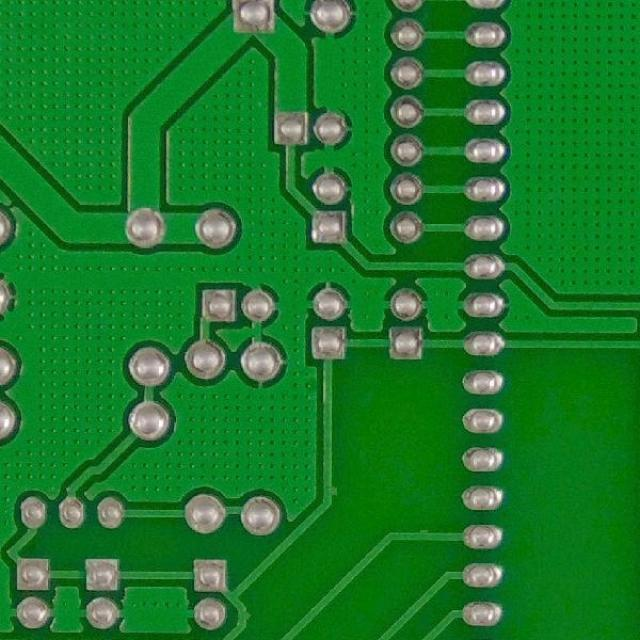Spur: (318, 480, 341, 500), (415, 524, 435, 545), (232, 607, 256, 622)
